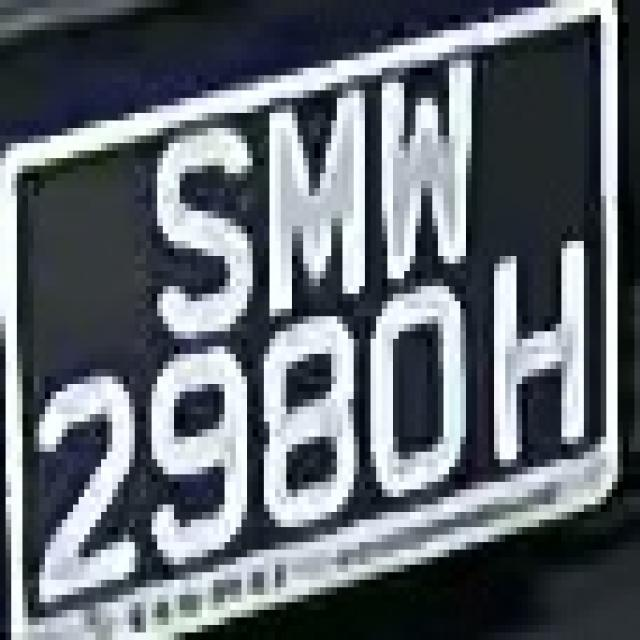0: (365, 271, 471, 512)
2: (28, 347, 152, 602)
8: (258, 294, 359, 550)
9: (140, 331, 253, 595)
H: (472, 211, 606, 512)
M: (247, 68, 382, 286)
S: (129, 105, 258, 354)
W: (365, 45, 483, 286)
